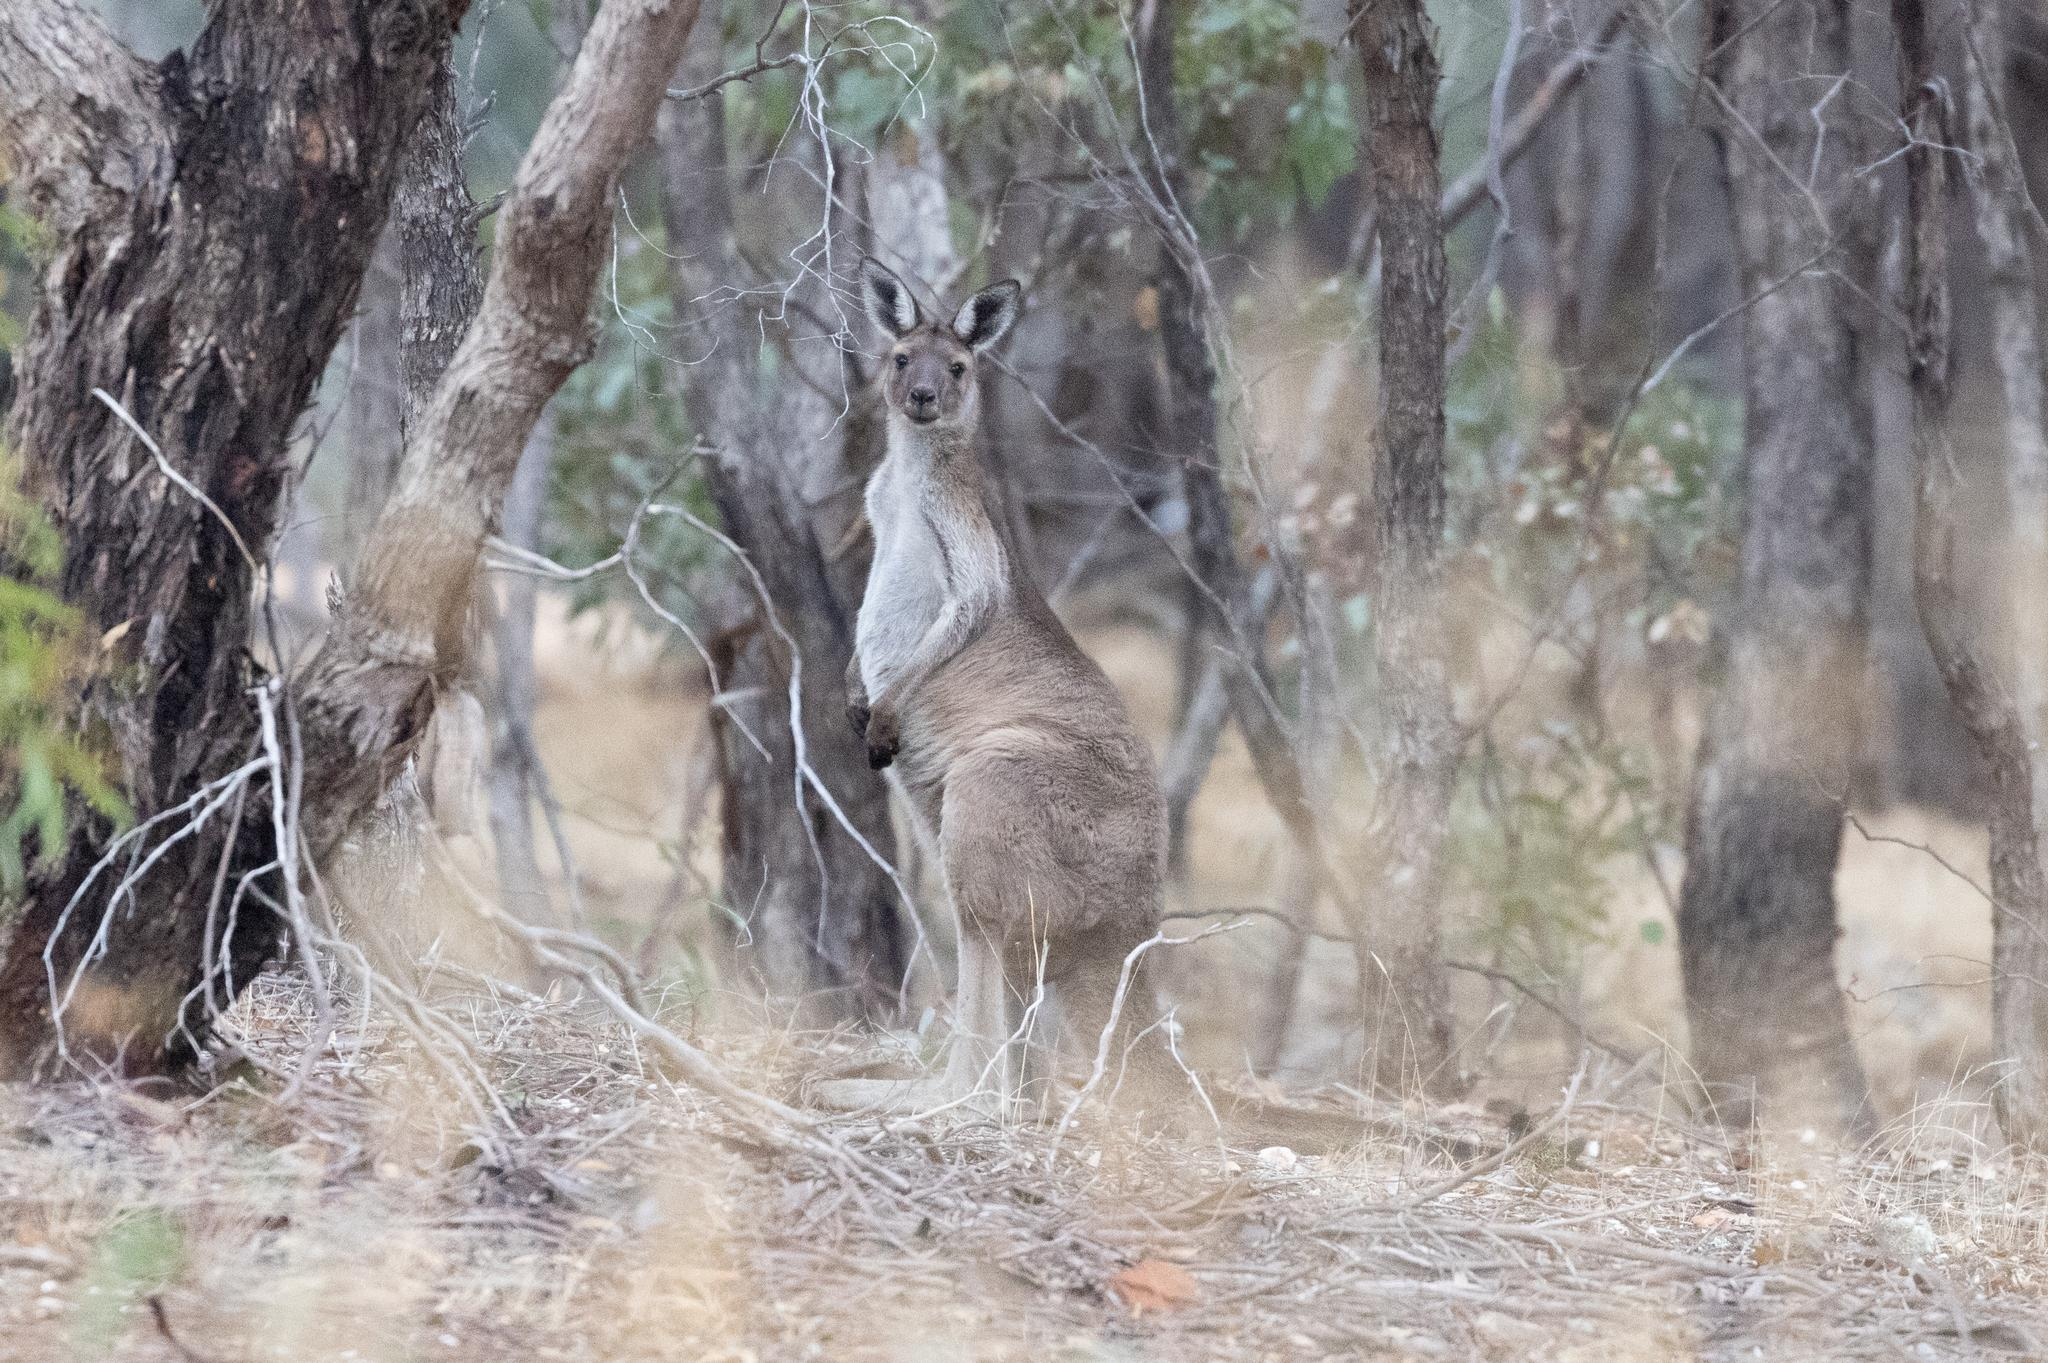Western grey kangaroo: (818, 253, 1703, 1217)
